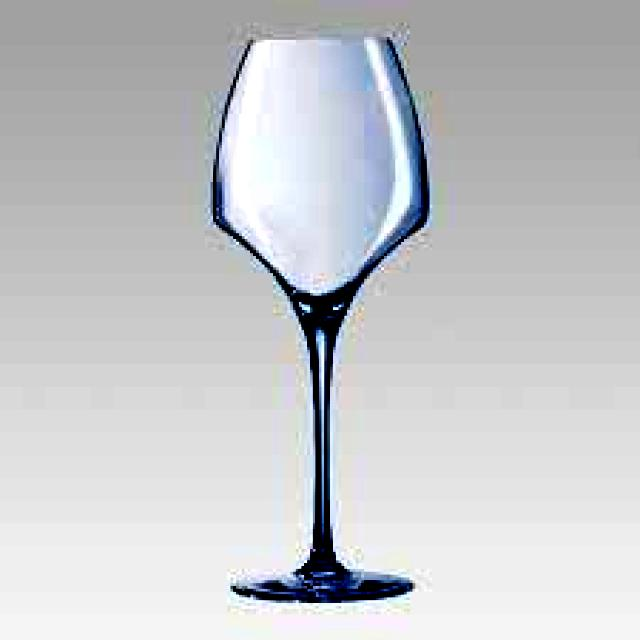Glass: (208, 32, 434, 611)
